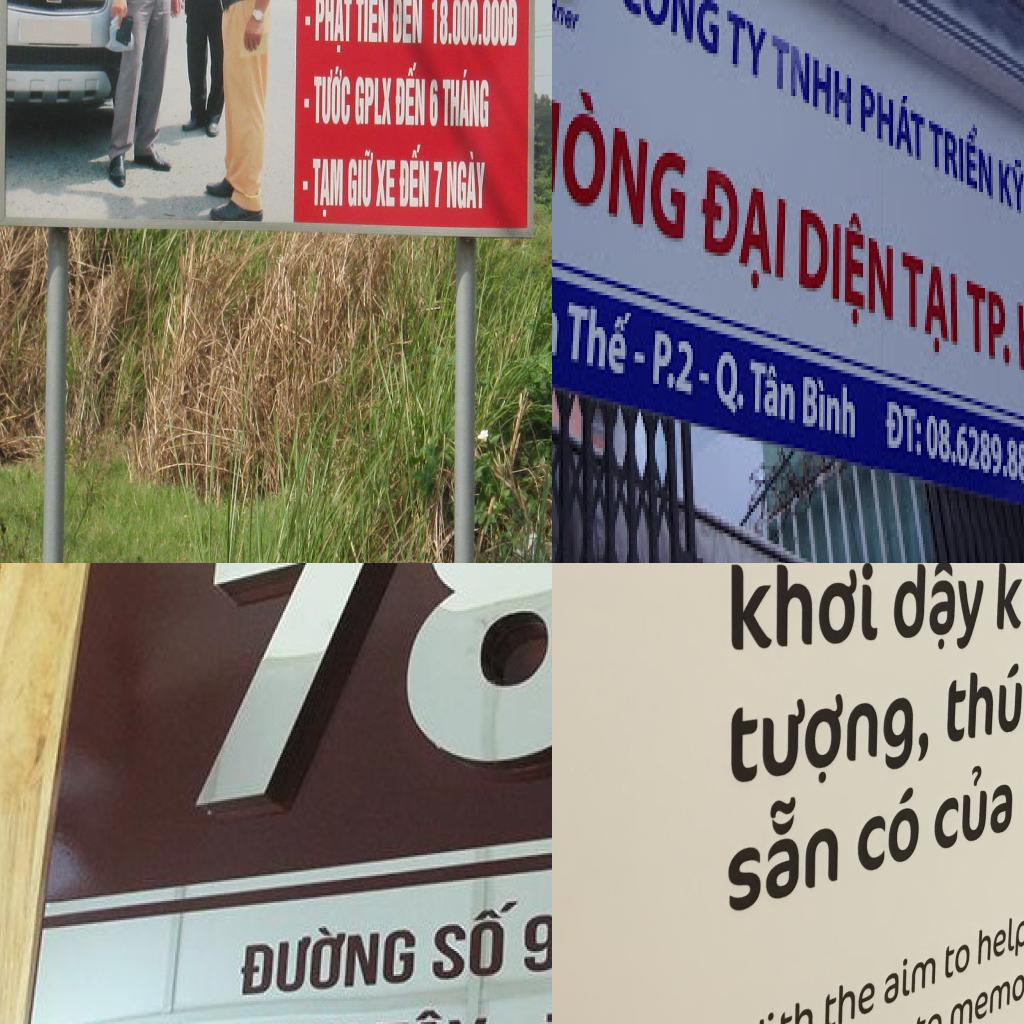text: (156, 563, 427, 829), (370, 563, 552, 789), (552, 42, 695, 252), (730, 680, 932, 803), (791, 192, 901, 345), (232, 909, 418, 997), (725, 787, 840, 918), (695, 153, 791, 302), (725, 563, 880, 654), (889, 563, 992, 660), (769, 25, 857, 135), (418, 898, 520, 992), (925, 409, 1024, 498), (932, 755, 1014, 855), (899, 238, 963, 363), (563, 284, 639, 384), (855, 71, 927, 174), (944, 658, 1024, 750), (611, 0, 723, 63), (927, 103, 995, 206), (853, 779, 920, 879), (948, 945, 1024, 1024), (963, 267, 1015, 377), (797, 363, 863, 448), (749, 348, 799, 441), (428, 0, 519, 48), (647, 320, 699, 402), (725, 0, 771, 89), (883, 940, 938, 1010), (440, 59, 490, 135), (975, 904, 1024, 980), (444, 146, 492, 218), (883, 388, 925, 466), (718, 991, 814, 1024), (820, 968, 875, 1024), (713, 345, 749, 423), (397, 138, 431, 214), (311, 66, 350, 130), (308, 152, 344, 221), (990, 563, 1024, 636), (516, 909, 552, 976), (995, 142, 1024, 224), (312, 0, 353, 57), (394, 57, 426, 126), (344, 145, 377, 211), (371, 1006, 492, 1024), (353, 74, 393, 125), (351, 0, 392, 48), (390, 0, 424, 45), (943, 934, 971, 982), (376, 152, 398, 212), (552, 0, 583, 42), (1013, 280, 1024, 398), (912, 997, 942, 1024), (432, 157, 444, 214), (428, 78, 440, 133), (633, 345, 649, 373), (697, 366, 711, 391)
